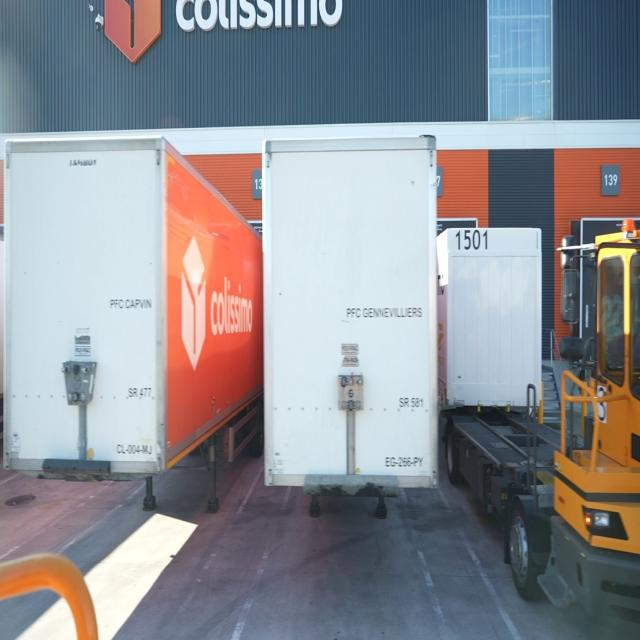Code: (452, 224, 495, 256)
